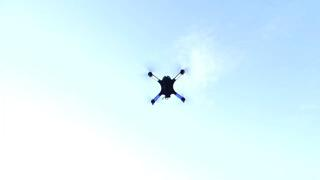UAV: (148, 69, 188, 105)
